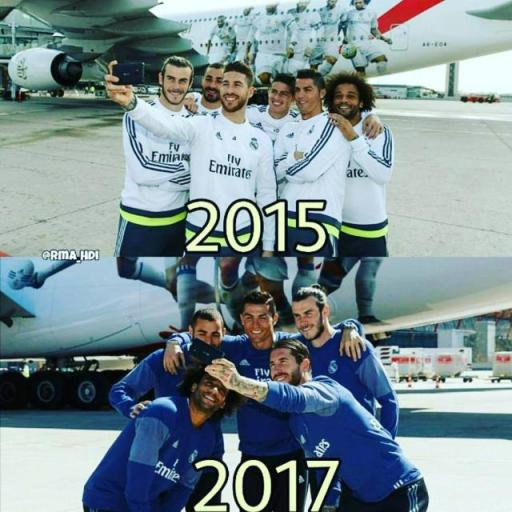Emirates: (207, 152, 252, 180)
